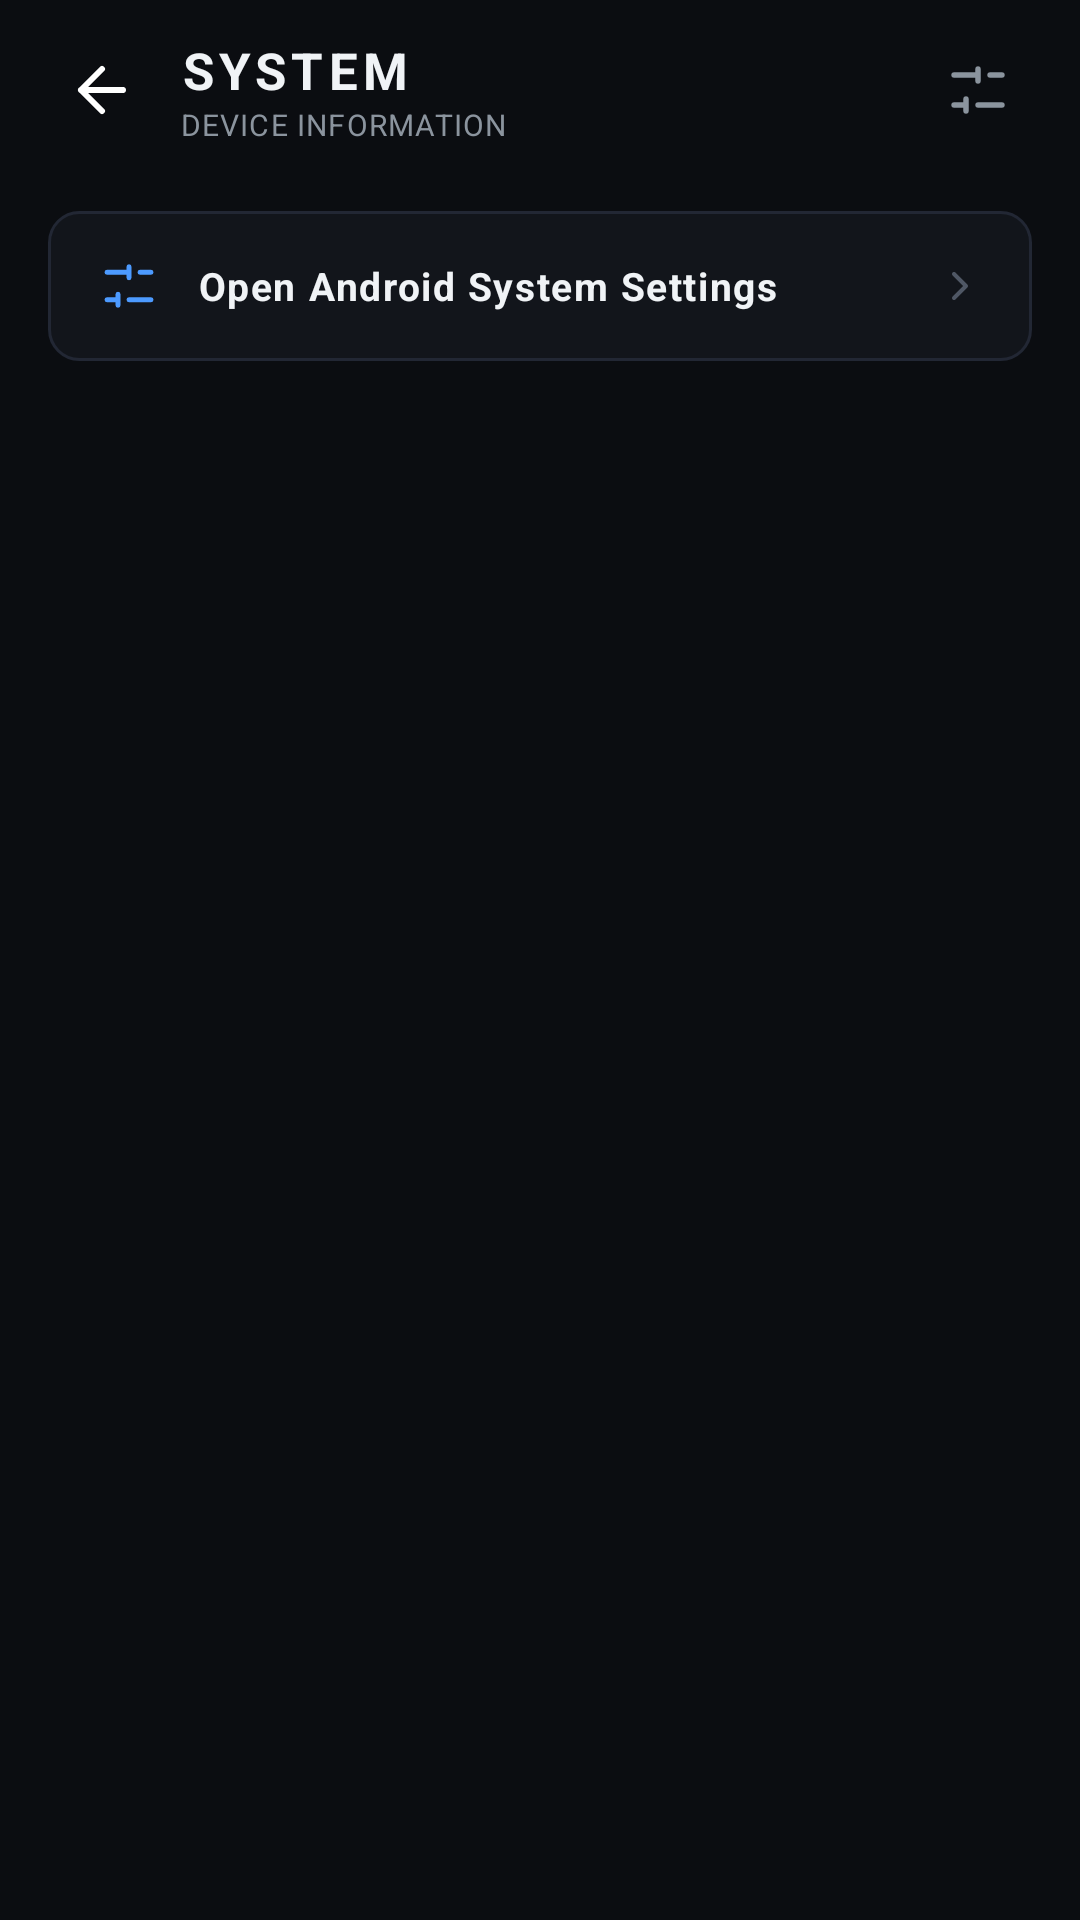

Where icons sit on this 1080w x 1920h app screen, as detection(x1, y1, x2, y2):
arrow back: detection(78, 66, 126, 114)
chevron right: detection(952, 272, 968, 300)
CUSTOMIZE: detection(951, 66, 1005, 114)
settings tune: detection(104, 264, 154, 308)
